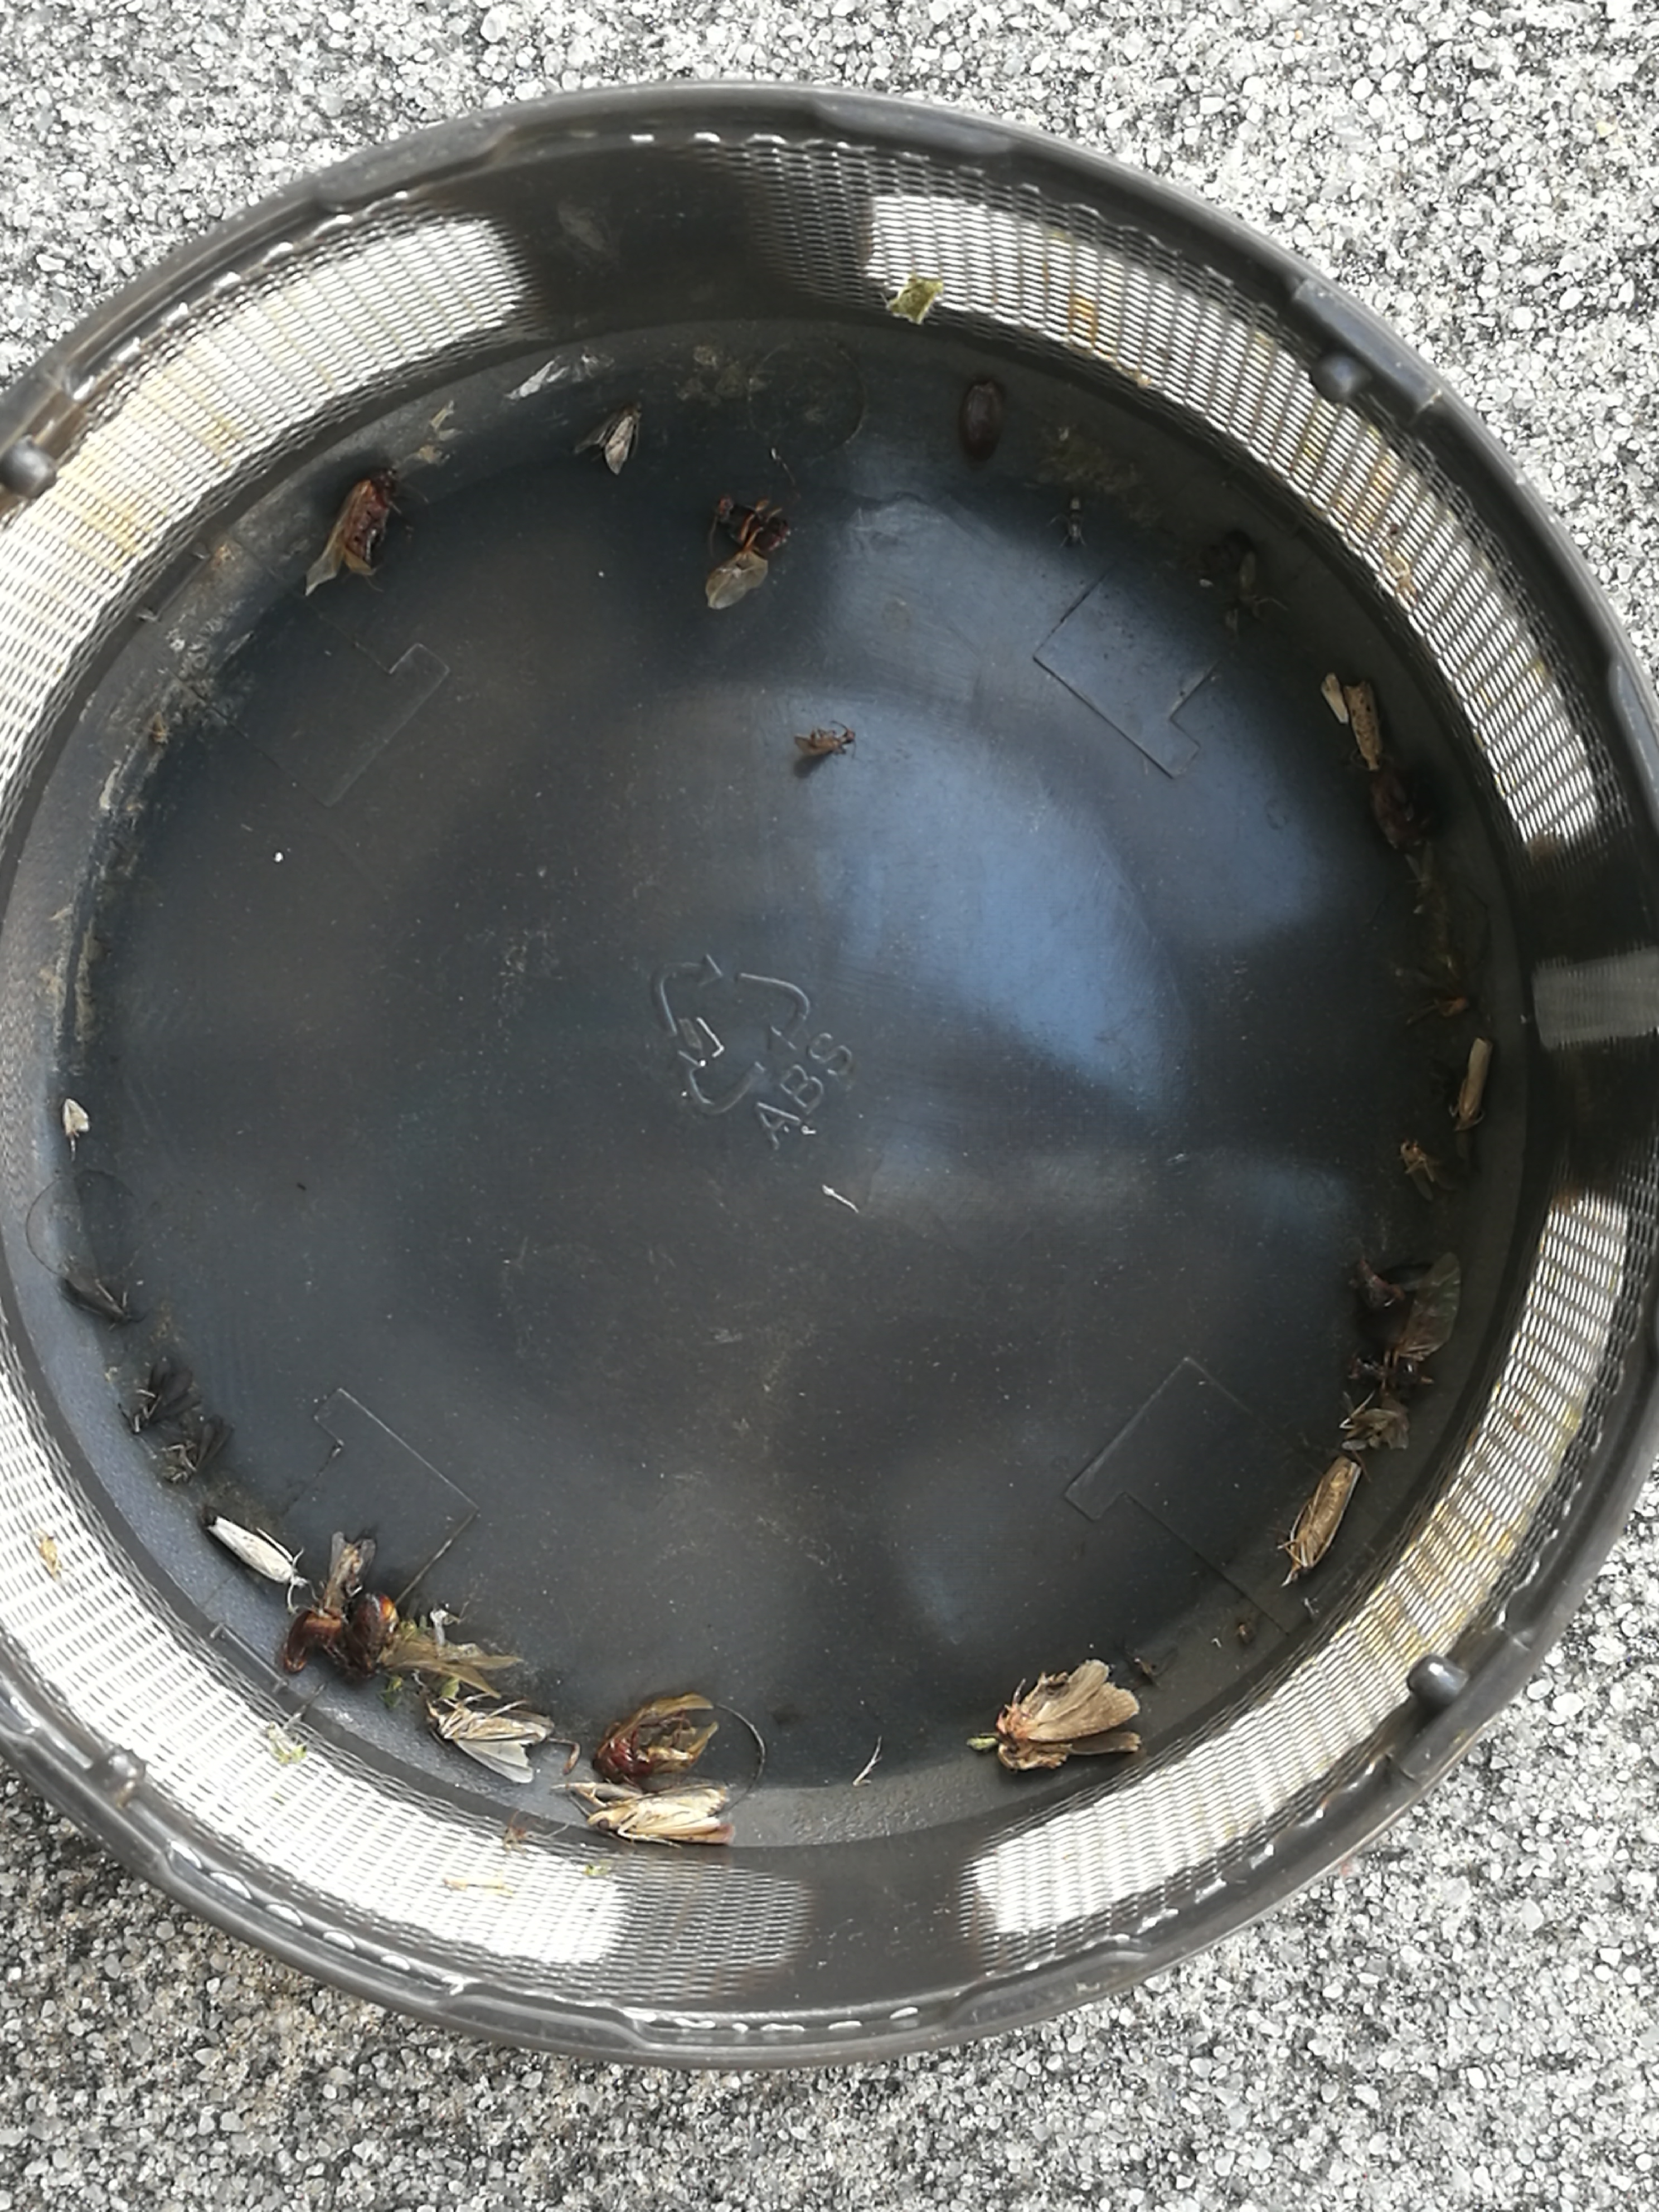beetle: (592, 1716, 683, 1782), (1371, 773, 1432, 857), (716, 498, 788, 556)
mosquito: (1283, 1458, 1359, 1587), (206, 1517, 305, 1587), (329, 1533, 375, 1609), (66, 1270, 129, 1322), (1345, 681, 1382, 770), (1459, 1036, 1492, 1125)
moth: (999, 1660, 1138, 1766), (425, 1702, 552, 1784), (587, 1789, 734, 1844), (131, 1359, 202, 1432), (572, 402, 641, 475)
